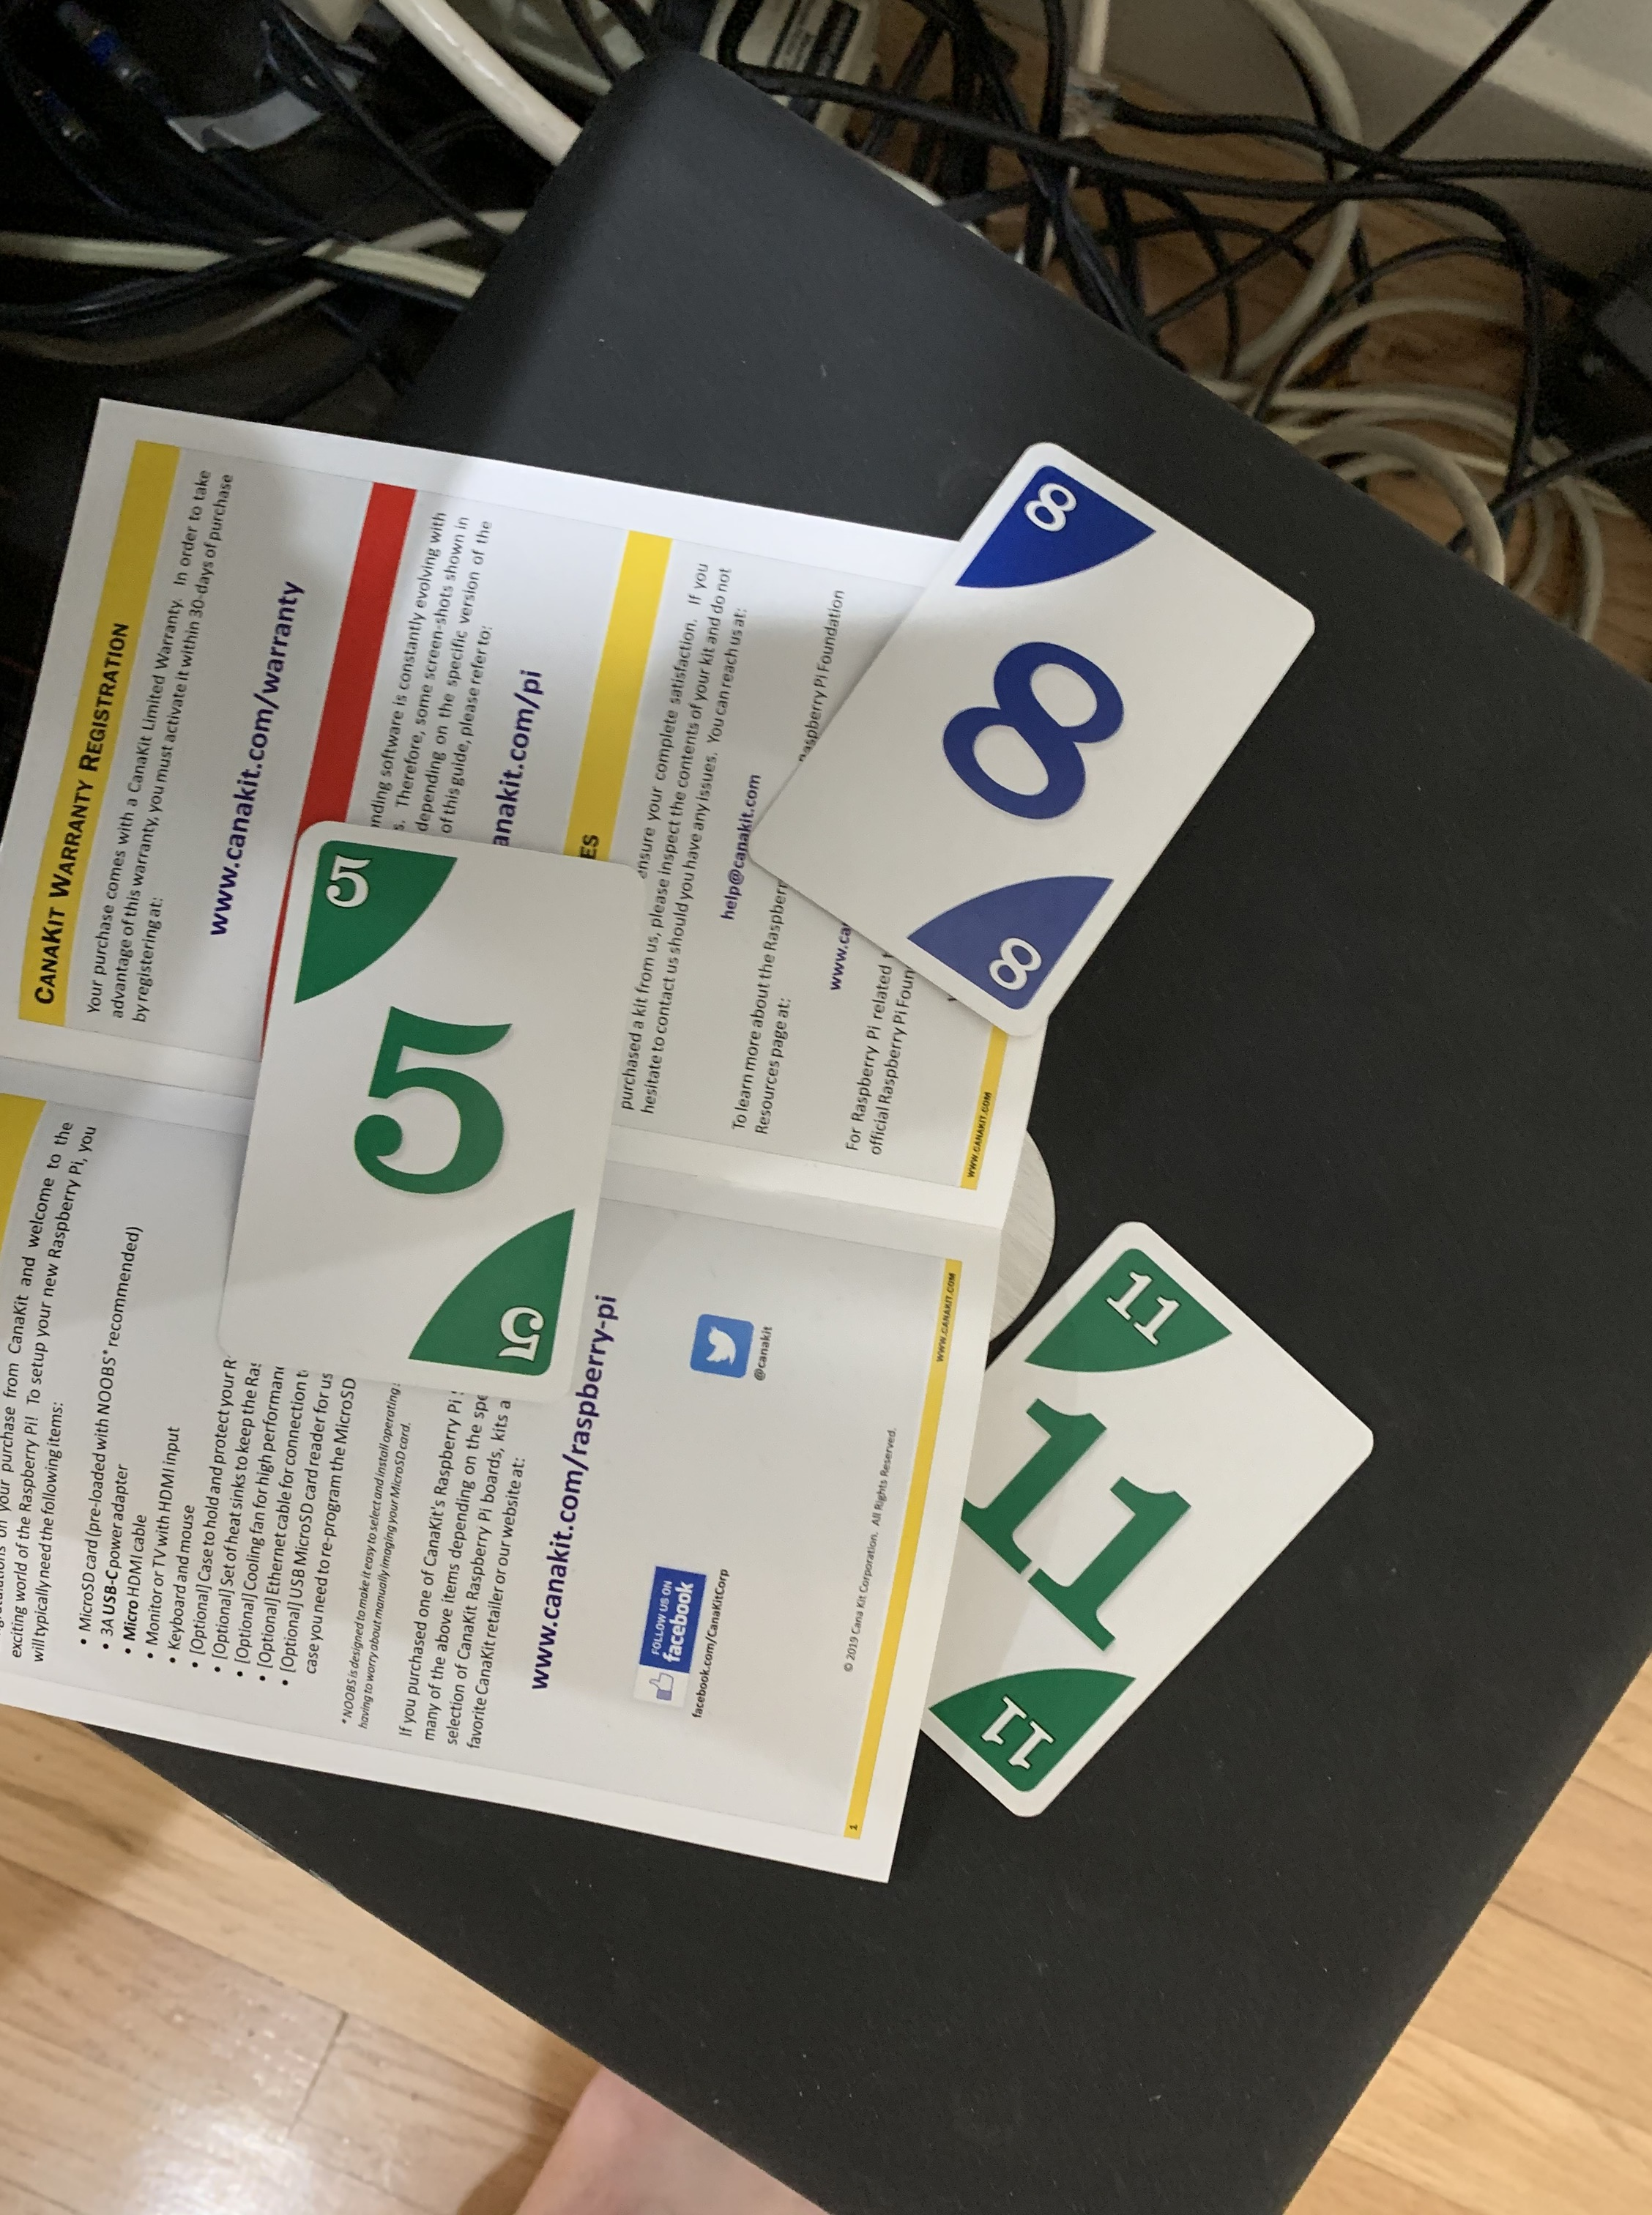eight: (727, 427, 1326, 1045)
eleven: (838, 1206, 1383, 1826)
five: (205, 812, 665, 1411)
